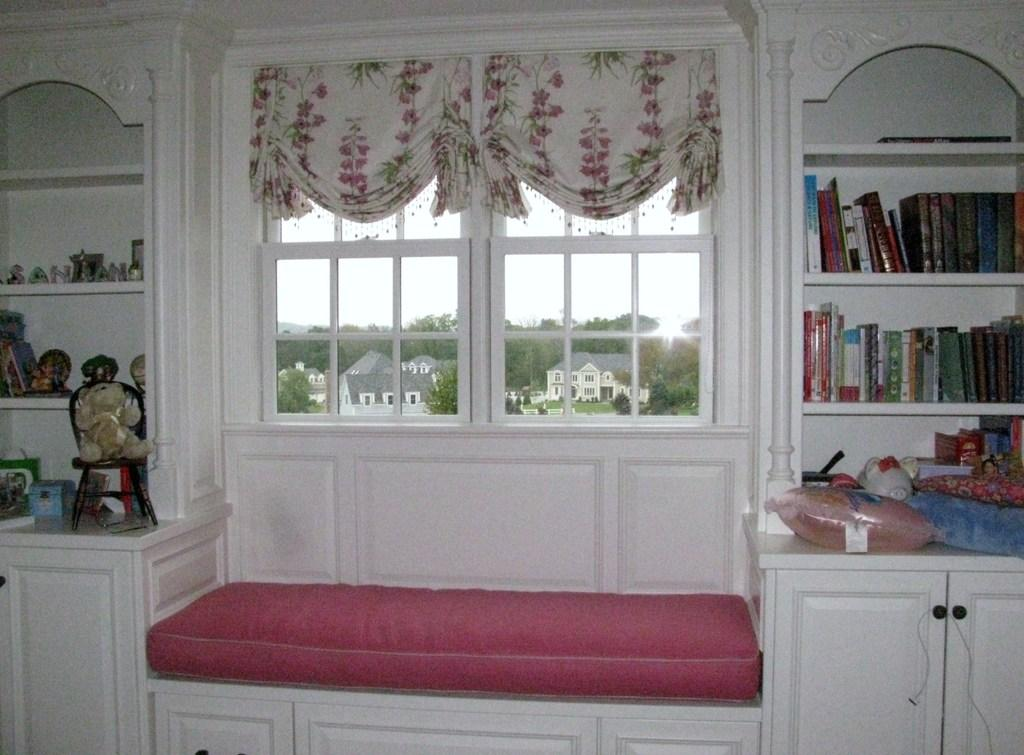cabinet_door: (776, 574, 946, 748), (8, 552, 142, 752), (296, 707, 590, 755), (950, 570, 1024, 748), (162, 702, 294, 755), (601, 721, 755, 755)
handle: (923, 596, 948, 632), (950, 598, 972, 628)
